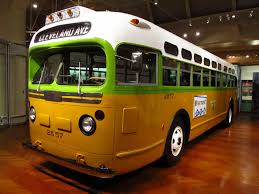bus: (26, 5, 240, 180)
